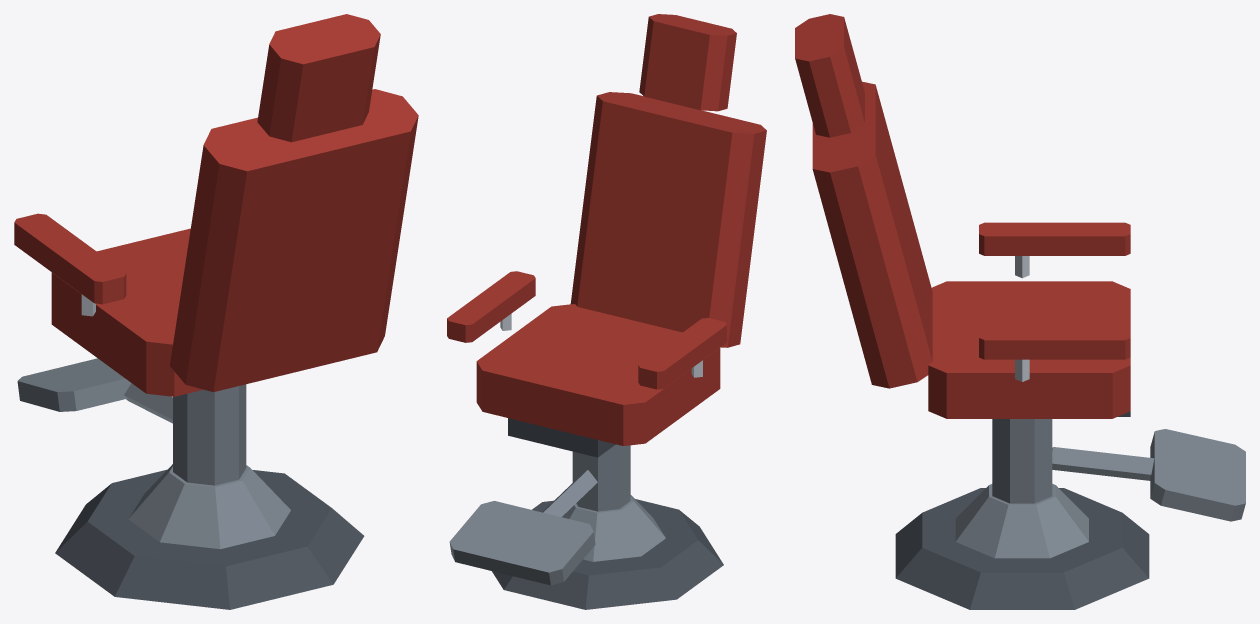
File: barber_chair.glb
3 views of the same model, side by side, from view 1: azimuth 30°, elevation 25°; view 2: azimuth 150°, elevation 25°; view 3: azimuth 270°, elevation 25° (orthographic). The views are drawn at different scales.
Visible parts, largest first — view 1: Body; view 2: Body; view 3: Body.
Part boxes in pixels (left/top/right/bottom): Body: left=14, top=14, right=418, bottom=609; Body: left=447, top=14, right=766, bottom=609; Body: left=795, top=14, right=1245, bottom=609.
Bounding box in the file's own units: 0.77 × 1.6 × 1.25.
